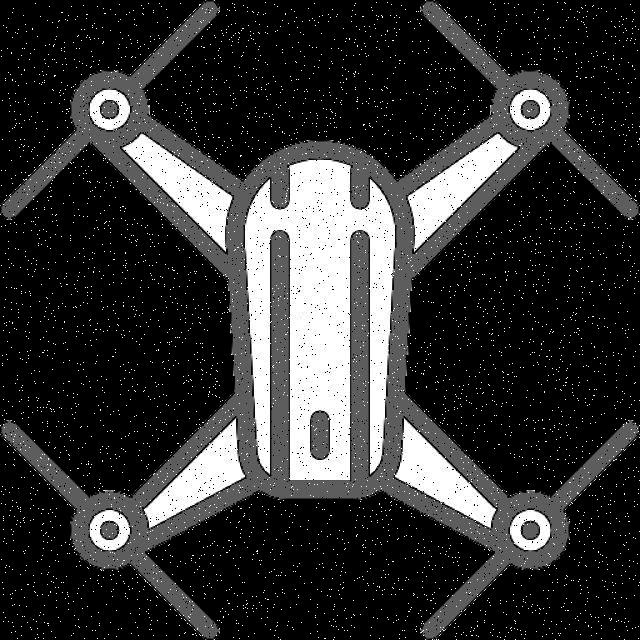drone: (2, 3, 640, 640)
